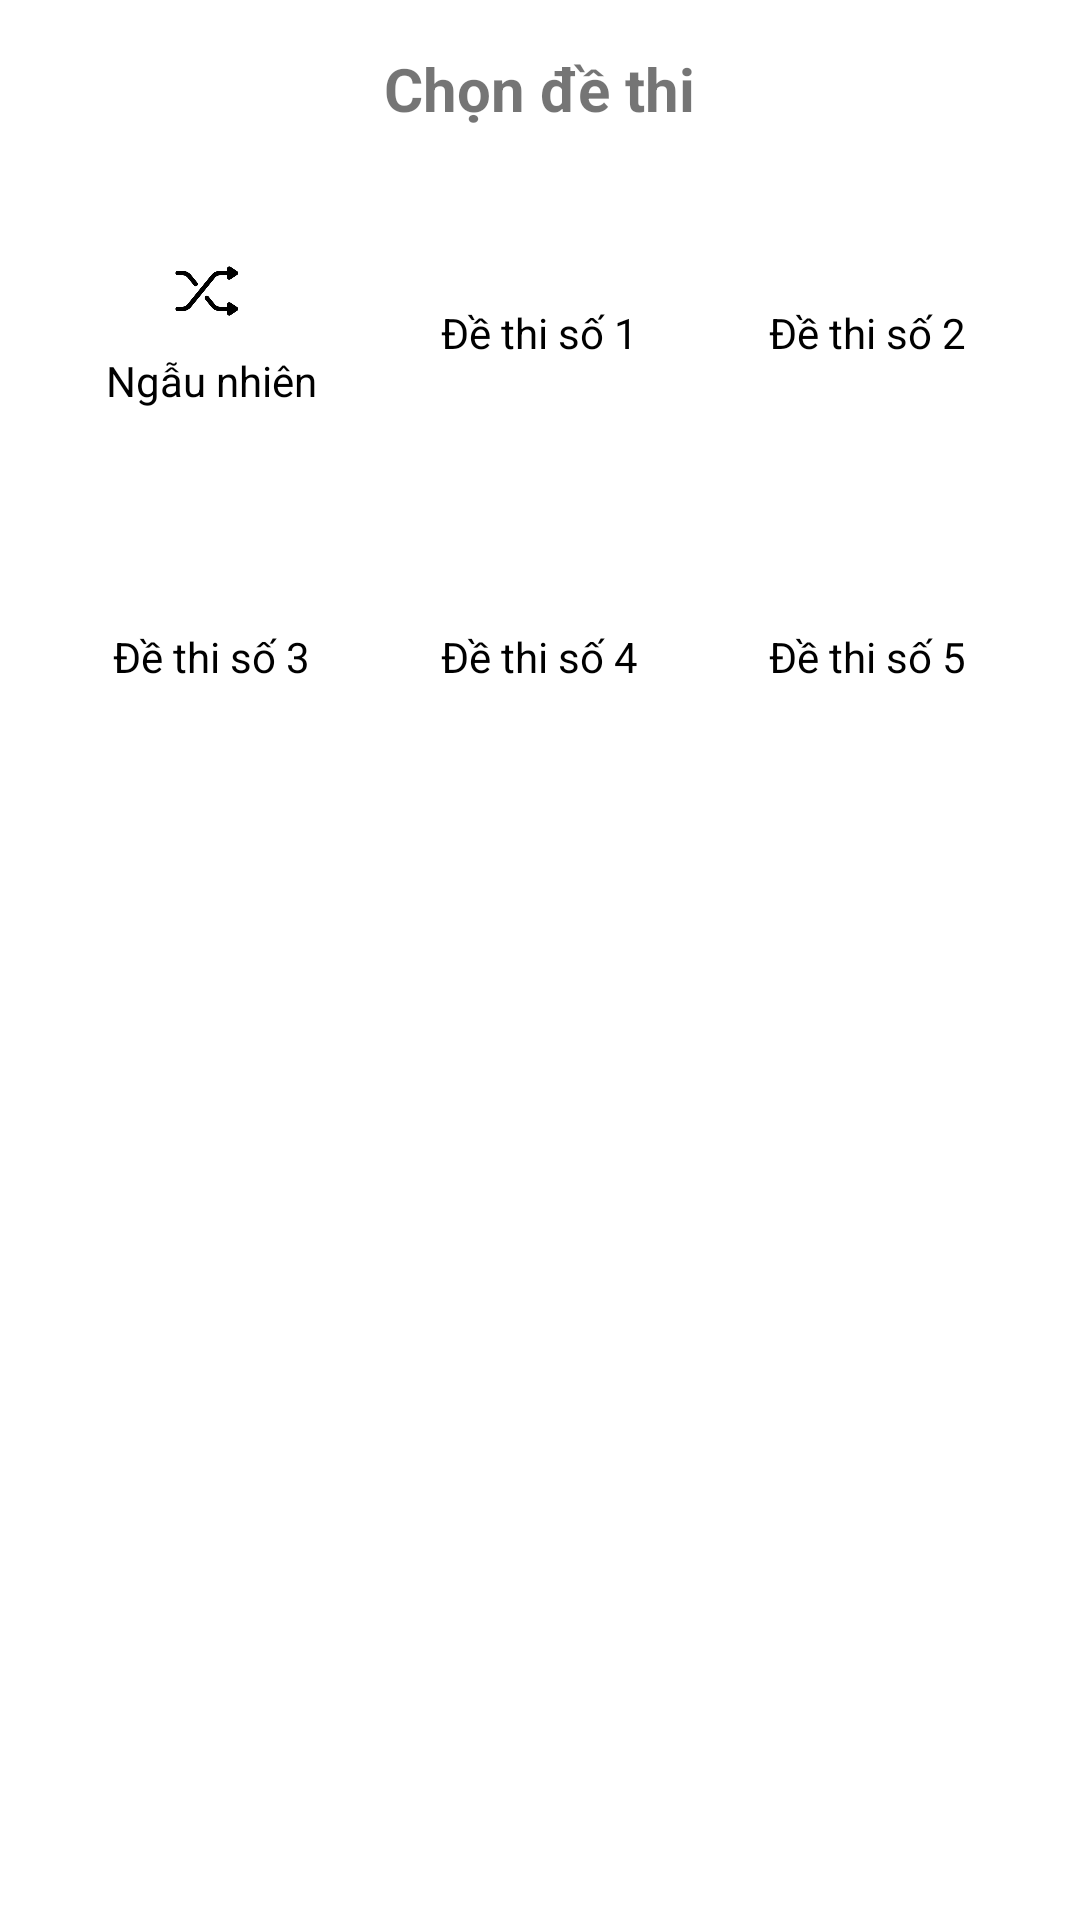

Named icons in this screenshot (1080×1920) and their bounding boxes, (x1, y1, x2, y2):
shuffle: (175, 266, 238, 316)
